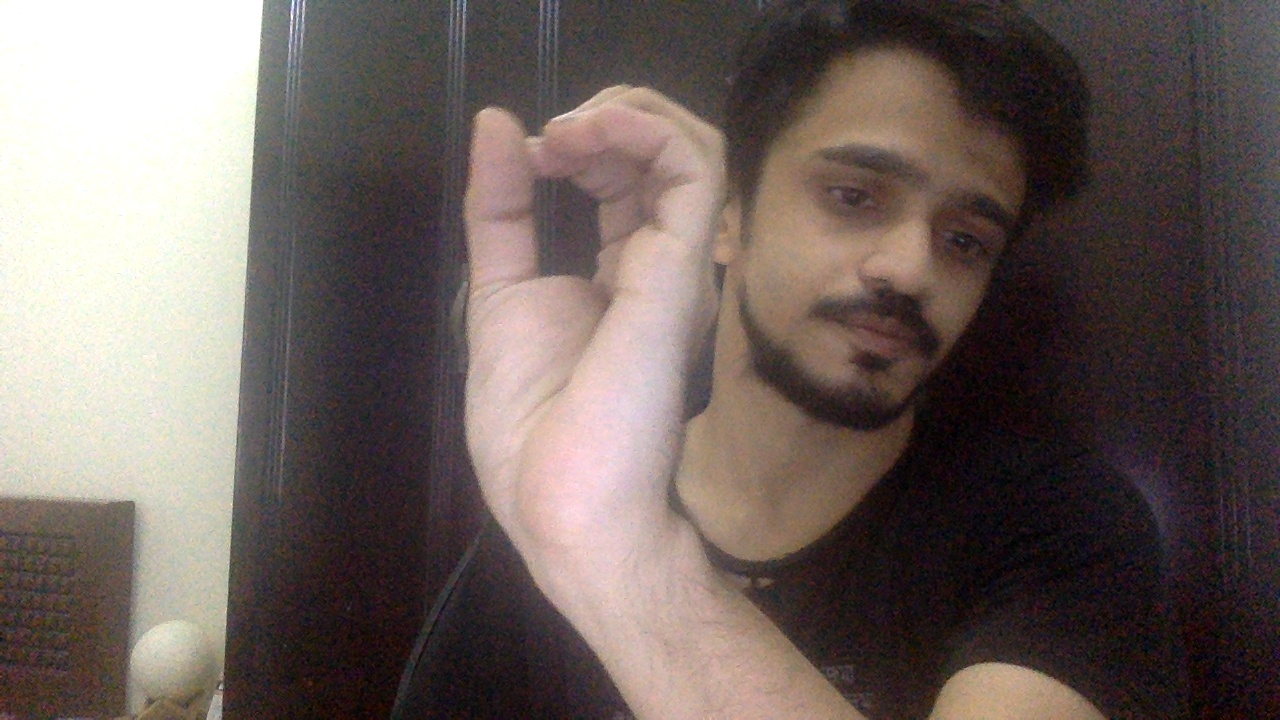zero: (461, 86, 695, 554)
